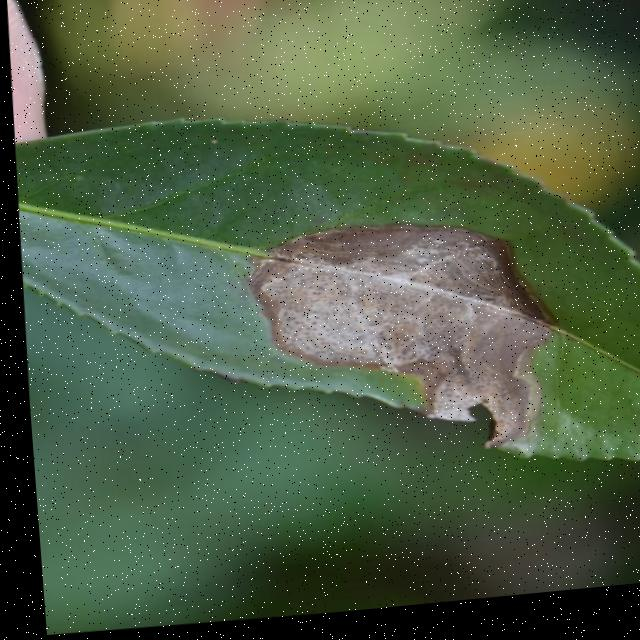Tea cloud leaf blight: (237, 218, 558, 480)
